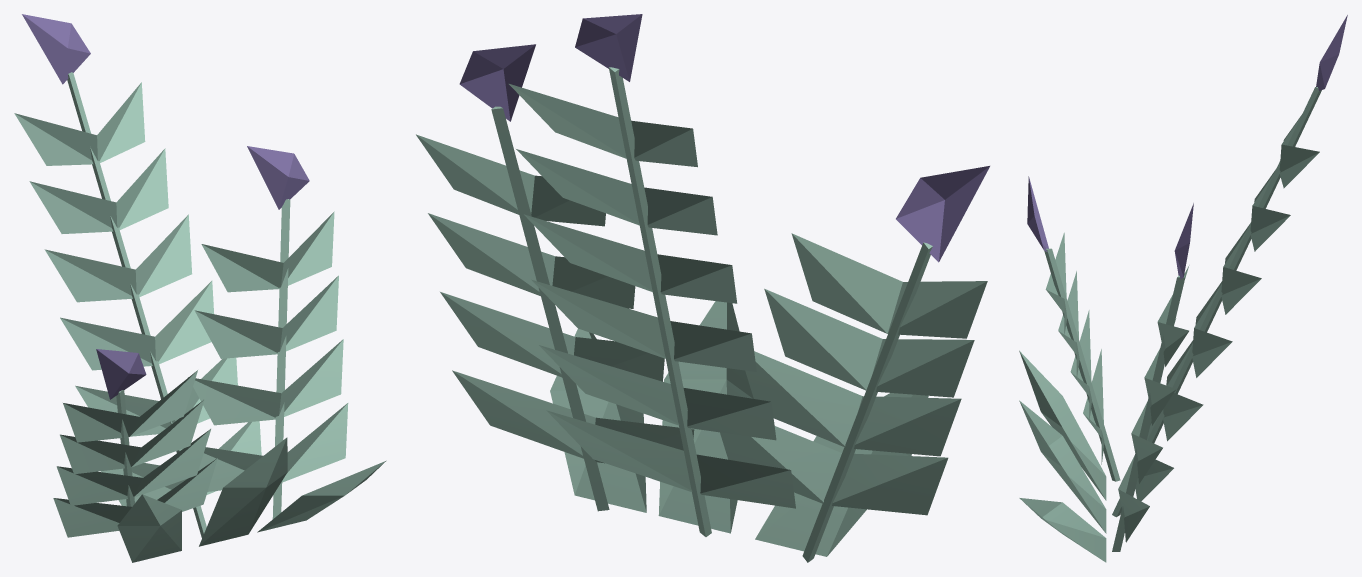
Rendered from fern.glb.
3 renders of one model, left to right at view 1: azimuth 30°, elevation 25°; view 2: azimuth 150°, elevation 25°; view 3: azimuth 270°, elevation 25°, orthographic. The views are drawn at different scales.
Parts seen in each view (by area): view 1: root_mesh; view 2: root_mesh; view 3: root_mesh.
Part boxes in pixels (x1=…): root_mesh: x1=14, y1=14, x2=386, y2=562; root_mesh: x1=416, y1=14, x2=989, y2=562; root_mesh: x1=1019, y1=15, x2=1347, y2=562.
Size of the model in its own units: 0.4547 by 0.6 by 0.3828.
